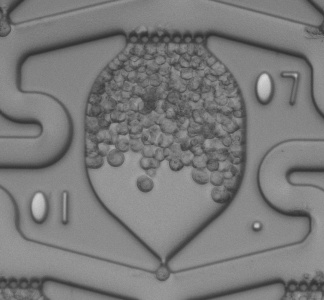AptNum: (250, 65, 306, 115)
Marker: (246, 215, 269, 237)
StNum: (26, 184, 82, 232)
Trap: (139, 262, 188, 300)
